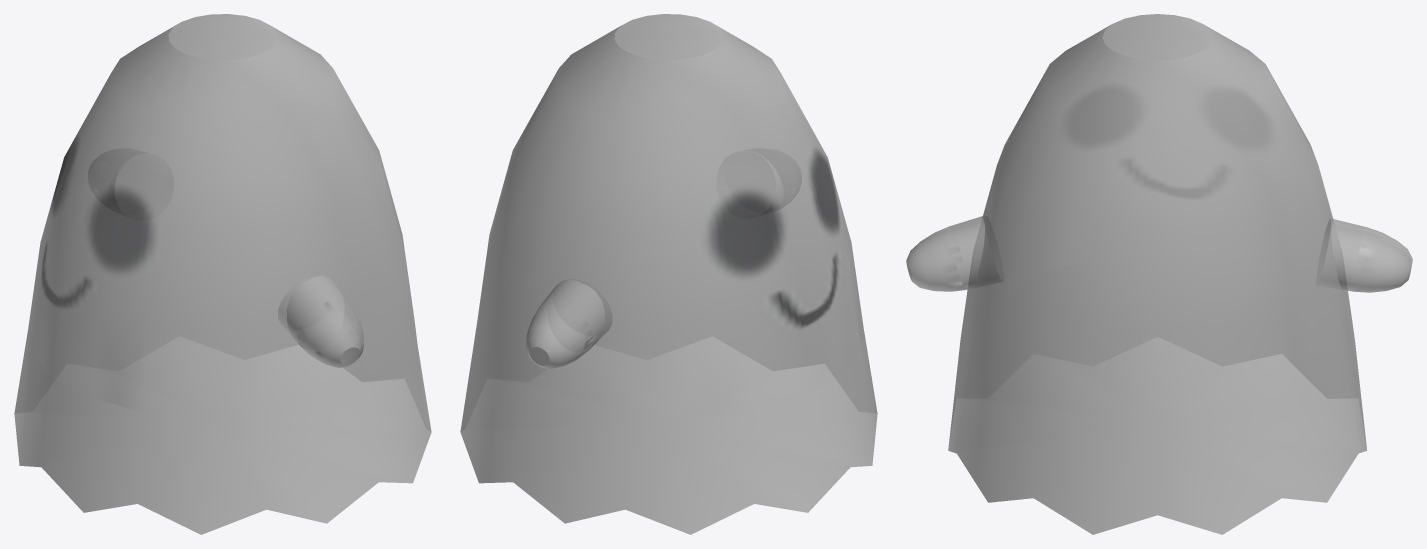
File: ghost.glb
3 views of the same model, side by side, from view 1: azimuth 30°, elevation 25°; view 2: azimuth 150°, elevation 25°; view 3: azimuth 270°, elevation 25° (orthographic).
Visible parts, largest first — view 1: ghostwhole, ghostwhole.001, ghostwhole.002; view 2: ghostwhole, ghostwhole.002, ghostwhole.001; view 3: ghostwhole, ghostwhole.001, ghostwhole.002.
Boxes of the visible parts, x1=… form: ghostwhole: x1=14, y1=14, x2=431, y2=534; ghostwhole.001: x1=278, y1=276, x2=363, y2=367; ghostwhole.002: x1=108, y1=153, x2=173, y2=220; ghostwhole: x1=460, y1=14, x2=877, y2=534; ghostwhole.002: x1=526, y1=279, x2=612, y2=368; ghostwhole.001: x1=716, y1=150, x2=783, y2=218; ghostwhole: x1=948, y1=14, x2=1366, y2=534; ghostwhole.001: x1=906, y1=215, x2=1003, y2=291; ghostwhole.002: x1=1316, y1=218, x2=1412, y2=292.
Bounding box in the file's own units: 1.81 × 2 × 2.16.
Materials: 1 (1 with a texture image).
